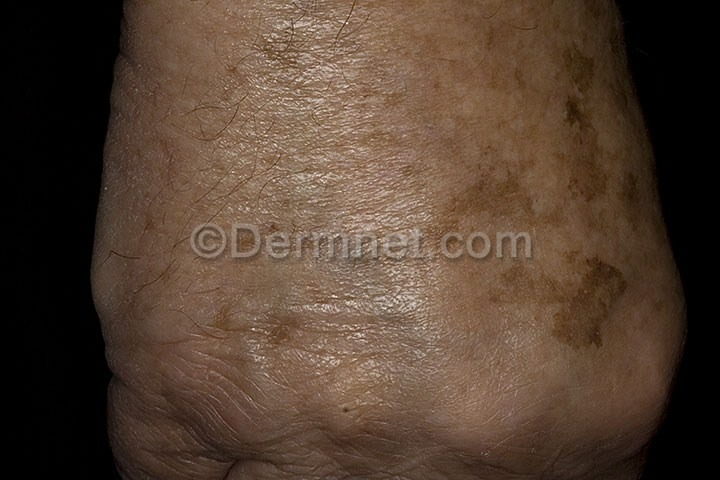Melasma: (374, 0, 720, 140), (205, 280, 333, 379)
